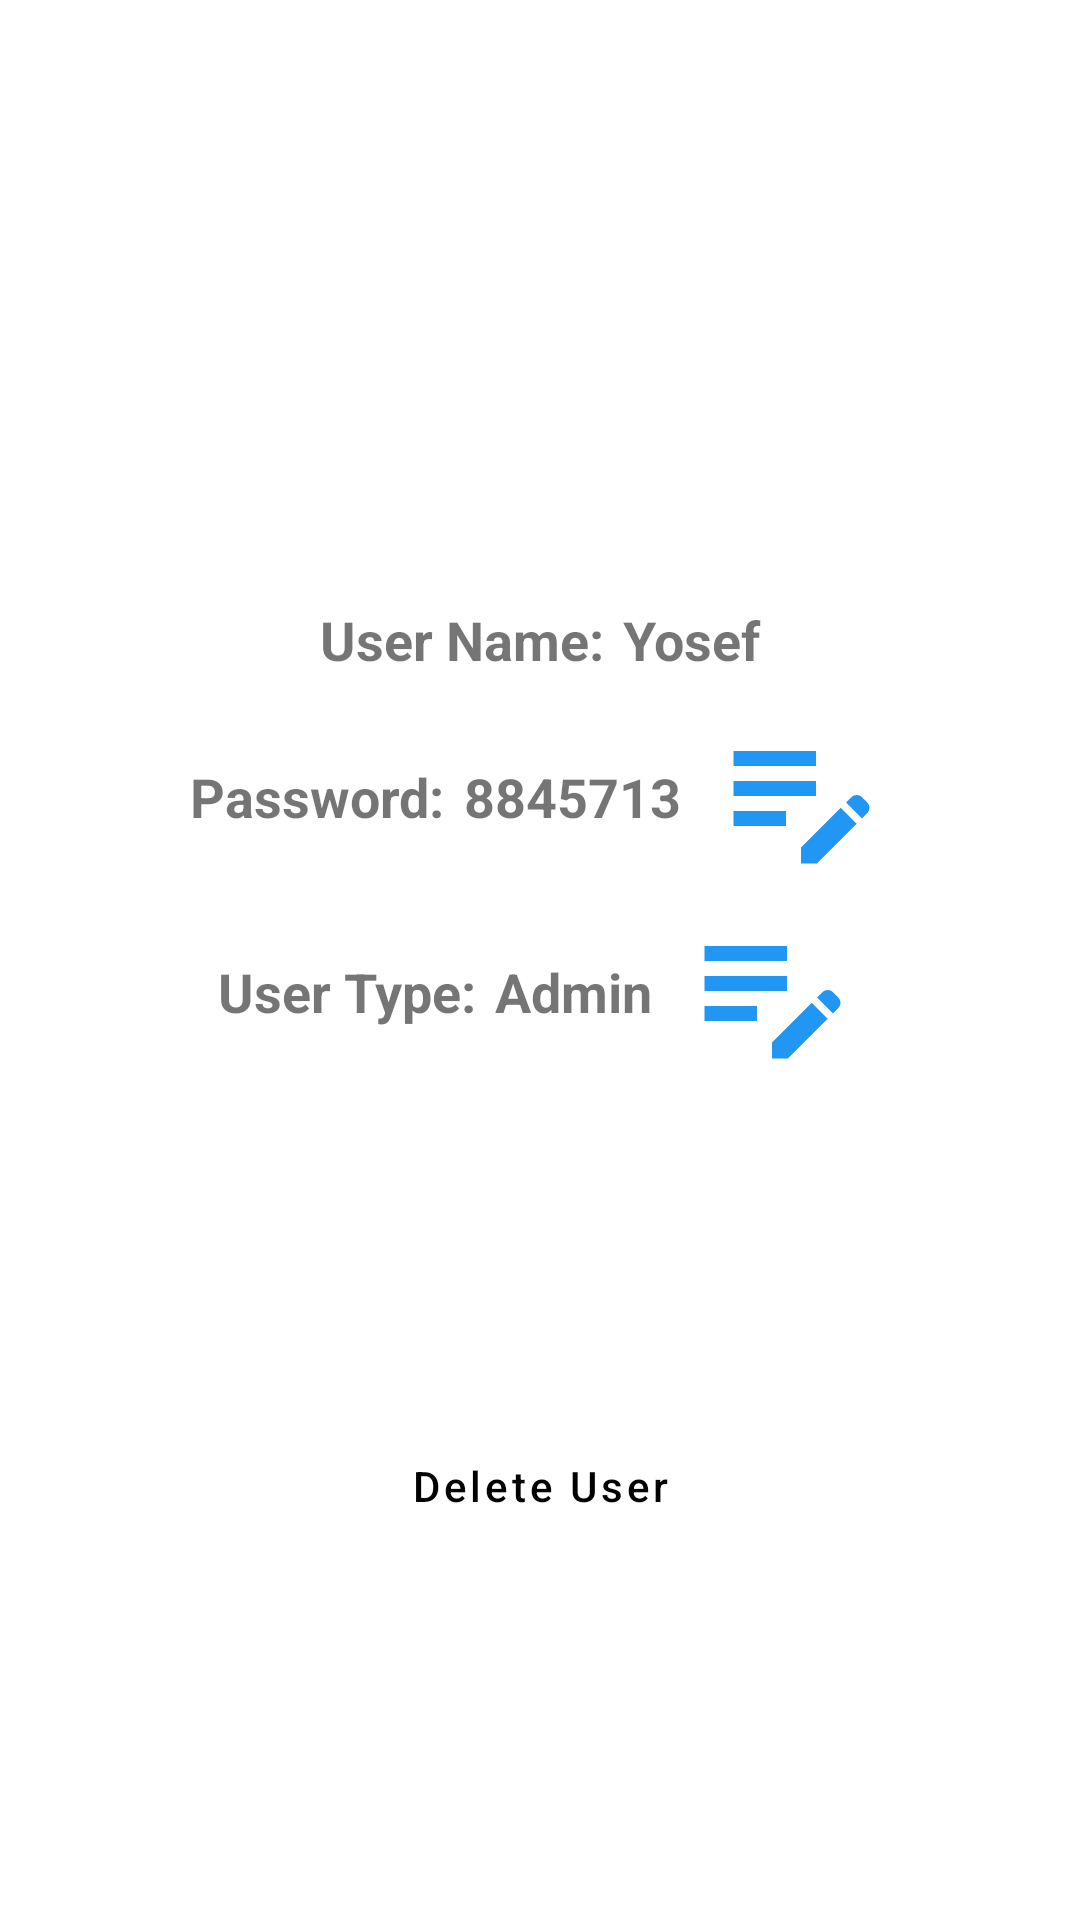

Where icons sit on this 1080px×1920px app screen, as [x1,y1,x2,y2]:
Edit User Password: [733,751,870,864]
Edit User Type: [704,946,841,1059]
